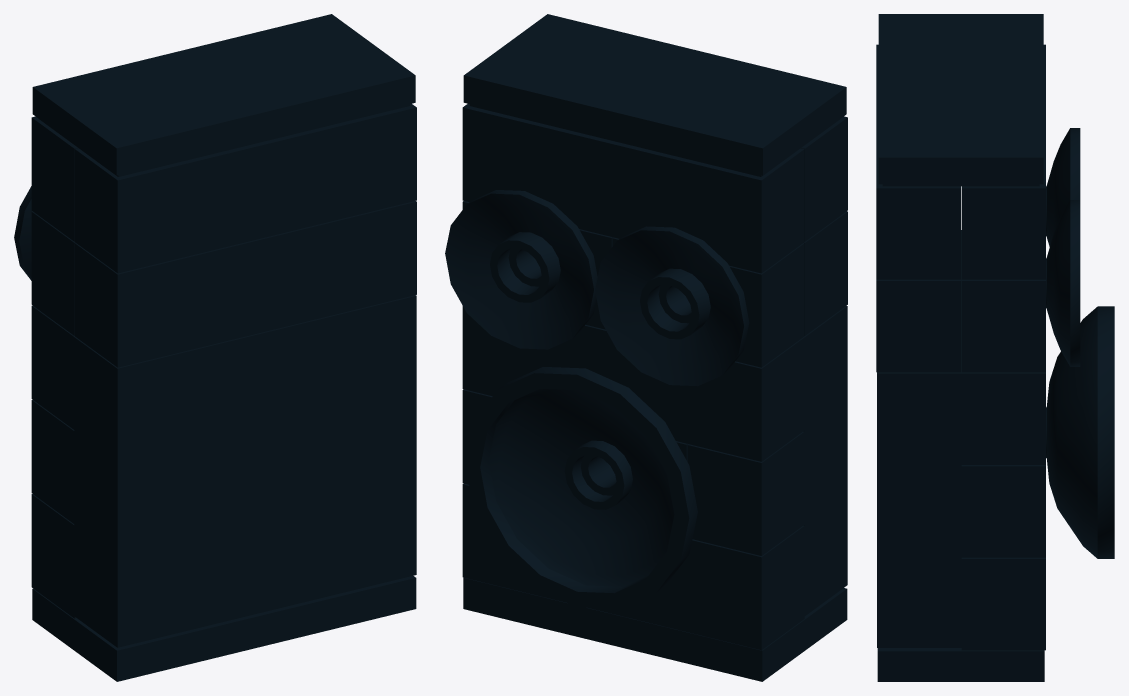
3 renders of one model, left to right at view 1: azimuth 30°, elevation 25°; view 2: azimuth 150°, elevation 25°; view 3: azimuth 270°, elevation 25°, orthographic.
Parts seen in each view (by area): view 1: Inner-Node-UntitledModel_dot_io-5.005, Inner-Node-UntitledModel_dot_io-13.001, Inner-Node-UntitledModel_dot_io-11.005, Inner-Node-UntitledModel_dot_io-10.005, Inner-Node-UntitledModel_dot_io-3.009, Inner-Node-UntitledModel_dot_io-12.005, Inner-Node-UntitledModel_dot_io-4.005, Inner-Node-UntitledModel_dot_io-14.001, Inner-Node-UntitledModel_dot_io-7.002, Inner-Node-UntitledModel_dot_io-9.005, Inner-Node-UntitledModel_dot_io-2.001; view 2: Inner-Node-UntitledModel_dot_io-0.001, Inner-Node-UntitledModel_dot_io-13.001, Inner-Node-UntitledModel_dot_io-12.005, Inner-Node-UntitledModel_dot_io-9.005, Inner-Node-UntitledModel_dot_io-2.001, Inner-Node-UntitledModel_dot_io-1.001, Inner-Node-UntitledModel_dot_io-4.005, Inner-Node-UntitledModel_dot_io-3.009, Inner-Node-UntitledModel_dot_io-5.005, Inner-Node-UntitledModel_dot_io-7.002, Inner-Node-UntitledModel_dot_io-14.001, Inner-Node-UntitledModel_dot_io-11.005 (+3 smaller); view 3: Inner-Node-UntitledModel_dot_io-13.001, Inner-Node-UntitledModel_dot_io-5.005, Inner-Node-UntitledModel_dot_io-0.001, Inner-Node-UntitledModel_dot_io-11.005, Inner-Node-UntitledModel_dot_io-12.005, Inner-Node-UntitledModel_dot_io-10.005, Inner-Node-UntitledModel_dot_io-4.005, Inner-Node-UntitledModel_dot_io-15.001, Inner-Node-UntitledModel_dot_io-8.002, Inner-Node-UntitledModel_dot_io-9.005, Inner-Node-UntitledModel_dot_io-3.009, Inner-Node-UntitledModel_dot_io-1.001 (+1 smaller).
Boxes of the visible parts, left/top/right/bottom form: Inner-Node-UntitledModel_dot_io-5.005: left=74, top=295, right=416, bottom=647; Inner-Node-UntitledModel_dot_io-13.001: left=32, top=14, right=415, bottom=176; Inner-Node-UntitledModel_dot_io-11.005: left=75, top=103, right=416, bottom=273; Inner-Node-UntitledModel_dot_io-10.005: left=75, top=201, right=416, bottom=367; Inner-Node-UntitledModel_dot_io-3.009: left=32, top=576, right=416, bottom=681; Inner-Node-UntitledModel_dot_io-12.005: left=31, top=116, right=78, bottom=241; Inner-Node-UntitledModel_dot_io-4.005: left=31, top=494, right=76, bottom=618; Inner-Node-UntitledModel_dot_io-14.001: left=31, top=211, right=75, bottom=335; Inner-Node-UntitledModel_dot_io-7.002: left=31, top=399, right=74, bottom=524; Inner-Node-UntitledModel_dot_io-9.005: left=31, top=305, right=75, bottom=429; Inner-Node-UntitledModel_dot_io-2.001: left=14, top=186, right=32, bottom=280; Inner-Node-UntitledModel_dot_io-0.001: left=465, top=367, right=697, bottom=608; Inner-Node-UntitledModel_dot_io-13.001: left=463, top=14, right=846, bottom=176; Inner-Node-UntitledModel_dot_io-12.005: left=462, top=104, right=804, bottom=273; Inner-Node-UntitledModel_dot_io-9.005: left=462, top=306, right=804, bottom=461; Inner-Node-UntitledModel_dot_io-2.001: left=595, top=226, right=749, bottom=386; Inner-Node-UntitledModel_dot_io-1.001: left=445, top=190, right=597, bottom=349; Inner-Node-UntitledModel_dot_io-4.005: left=462, top=483, right=804, bottom=650; Inner-Node-UntitledModel_dot_io-3.009: left=463, top=577, right=847, bottom=681; Inner-Node-UntitledModel_dot_io-5.005: left=803, top=306, right=847, bottom=615; Inner-Node-UntitledModel_dot_io-7.002: left=687, top=431, right=804, bottom=555; Inner-Node-UntitledModel_dot_io-14.001: left=612, top=237, right=804, bottom=367; Inner-Node-UntitledModel_dot_io-11.005: left=801, top=116, right=847, bottom=241; Inner-Node-UntitledModel_dot_io-13.001: left=878, top=14, right=1043, bottom=186; Inner-Node-UntitledModel_dot_io-5.005: left=877, top=230, right=961, bottom=647; Inner-Node-UntitledModel_dot_io-0.001: left=1046, top=306, right=1114, bottom=558; Inner-Node-UntitledModel_dot_io-11.005: left=876, top=44, right=960, bottom=279; Inner-Node-UntitledModel_dot_io-12.005: left=961, top=44, right=1045, bottom=279; Inner-Node-UntitledModel_dot_io-10.005: left=876, top=279, right=960, bottom=372; Inner-Node-UntitledModel_dot_io-4.005: left=961, top=557, right=1045, bottom=650; Inner-Node-UntitledModel_dot_io-15.001: left=961, top=279, right=1045, bottom=372; Inner-Node-UntitledModel_dot_io-8.002: left=961, top=465, right=1045, bottom=557; Inner-Node-UntitledModel_dot_io-9.005: left=961, top=372, right=1045, bottom=464; Inner-Node-UntitledModel_dot_io-3.009: left=877, top=648, right=1044, bottom=681; Inner-Node-UntitledModel_dot_io-1.001: left=1046, top=200, right=1080, bottom=366.
Size of the model in its own units: 3.19 by 5.43 by 2.24.
